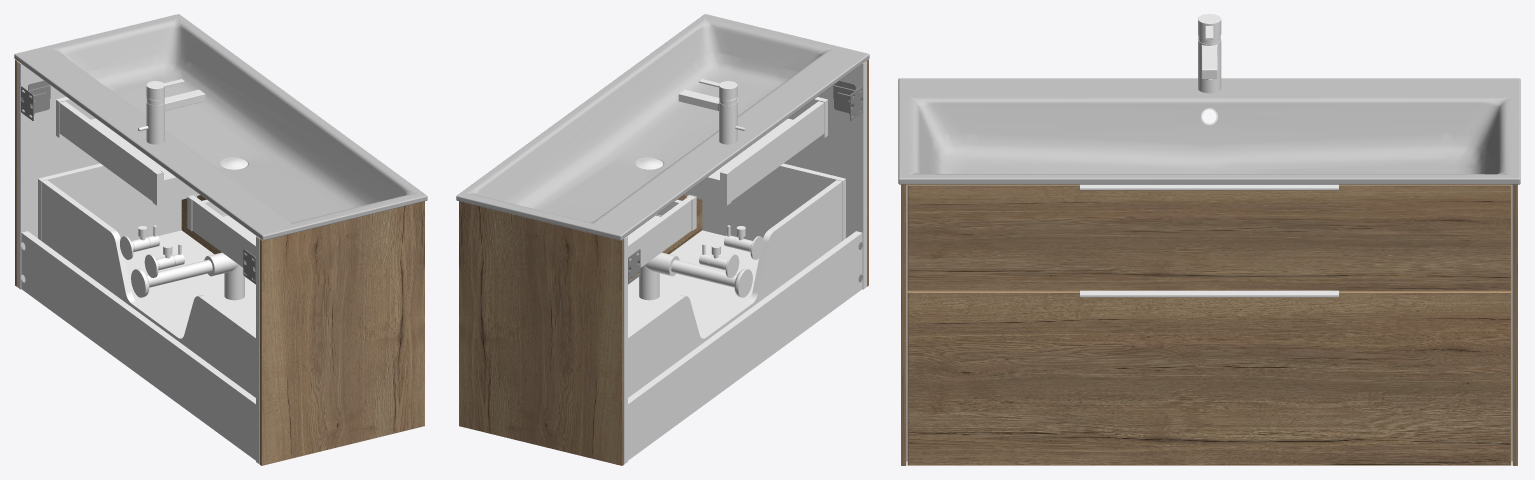
The model's file is divinec_2z_thin_puro3169_v1.glb.
3 views of the same model, side by side, from view 1: azimuth 30°, elevation 25°; view 2: azimuth 150°, elevation 25°; view 3: azimuth 270°, elevation 25° (orthographic). The views are drawn at different scales.
Parts seen in each view (by area): view 1: Object_10, Object_2, Object_5, Object_6, Object_9, Object_8, Object_11, Object_4; view 2: Object_10, Object_2, Object_5, Object_6, Object_9, Object_8, Object_11, Object_4; view 3: Object_5, Object_2, Object_4, Object_7, Object_9, Object_10.
Boxes of the visible parts, left/top/right/bottom form: Object_10: left=17, top=61, right=259, bottom=464; Object_2: left=14, top=14, right=427, bottom=240; Object_5: left=181, top=195, right=424, bottom=465; Object_6: left=131, top=252, right=244, bottom=300; Object_9: left=138, top=79, right=205, bottom=144; Object_8: left=120, top=225, right=184, bottom=277; Object_11: left=21, top=80, right=255, bottom=283; Object_4: left=15, top=59, right=424, bottom=465; Object_10: left=624, top=61, right=866, bottom=464; Object_2: left=456, top=14, right=869, bottom=240; Object_5: left=459, top=195, right=702, bottom=465; Object_6: left=639, top=252, right=752, bottom=300; Object_9: left=678, top=79, right=745, bottom=144; Object_8: left=699, top=225, right=763, bottom=277; Object_11: left=628, top=80, right=862, bottom=283; Object_4: left=459, top=59, right=868, bottom=465; Object_5: left=908, top=185, right=1510, bottom=465; Object_2: left=898, top=78, right=1520, bottom=184; Object_4: left=901, top=184, right=1517, bottom=465; Object_7: left=1080, top=184, right=1338, bottom=297; Object_9: left=1198, top=14, right=1221, bottom=93; Object_10: left=906, top=184, right=1512, bottom=461.
Bounding box in the file's own units: 471 × 762 × 1200.
9 materials, 2 textured.
